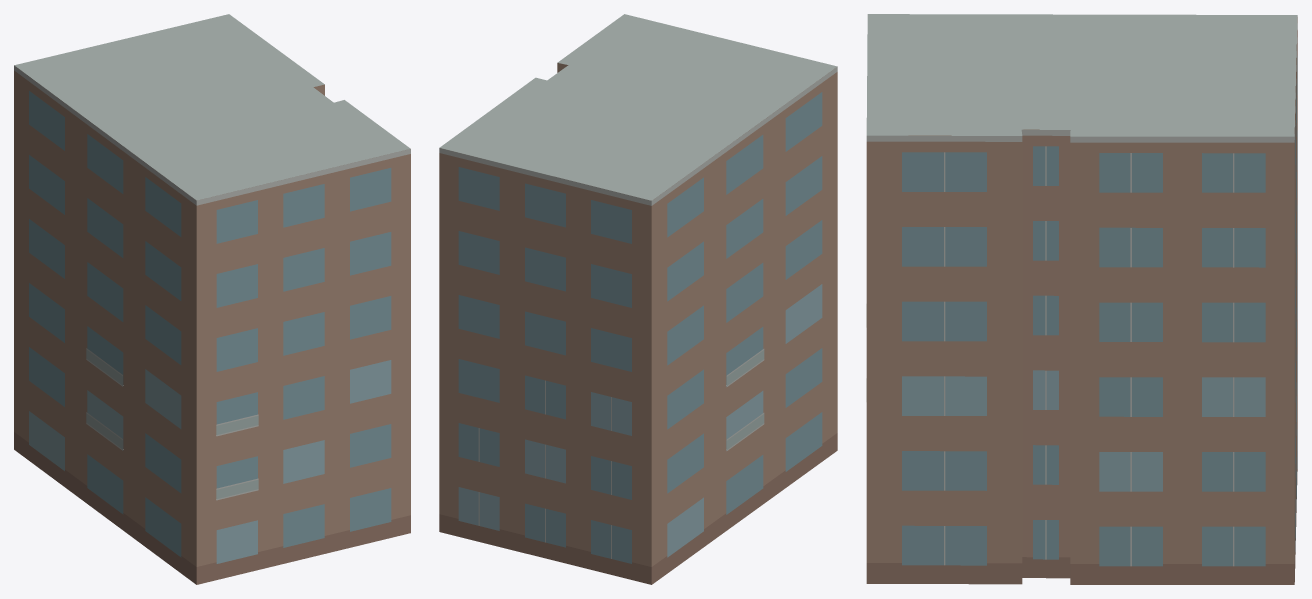
The model's file is survey-upis-32909627.glb.
3 views of the same model, side by side, from view 1: azimuth 30°, elevation 25°; view 2: azimuth 150°, elevation 25°; view 3: azimuth 270°, elevation 25° (orthographic). The views are drawn at different scales.
Parts seen in each view (by area): view 1: survey-upis-32909627.tmp; view 2: survey-upis-32909627.tmp; view 3: survey-upis-32909627.tmp.
Boxes of the visible parts, left/top/right/bottom form: survey-upis-32909627.tmp: left=14, top=14, right=410, bottom=584; survey-upis-32909627.tmp: left=439, top=14, right=837, bottom=584; survey-upis-32909627.tmp: left=866, top=14, right=1297, bottom=584.
Size of the model in its own units: 10.75 by 18.3 by 15.96.
